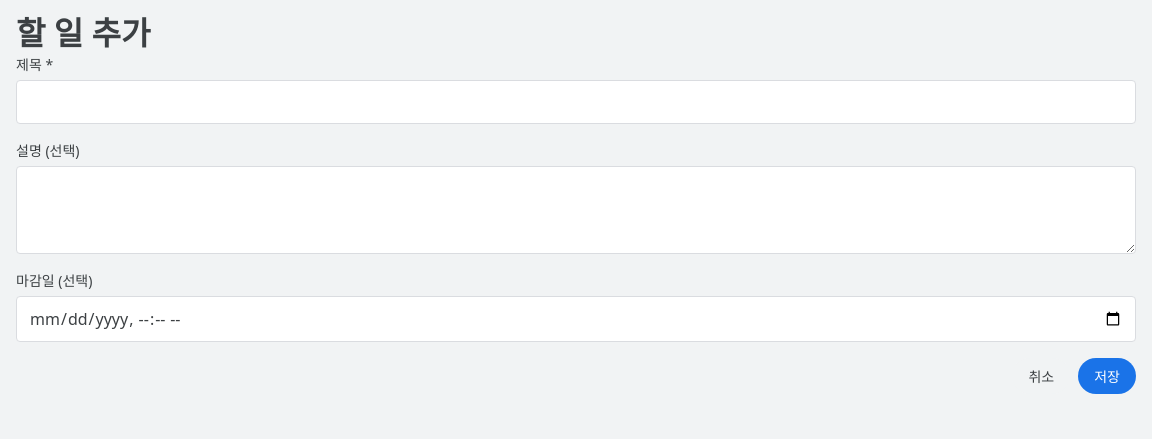
TodoNewPage › 생성 실패 시 오류 메시지 표시
The image size is (1152, 439).
Type "새 할 일" into the field labelled "제목 *". click: (576, 102)
box: [16,80,1136,124]
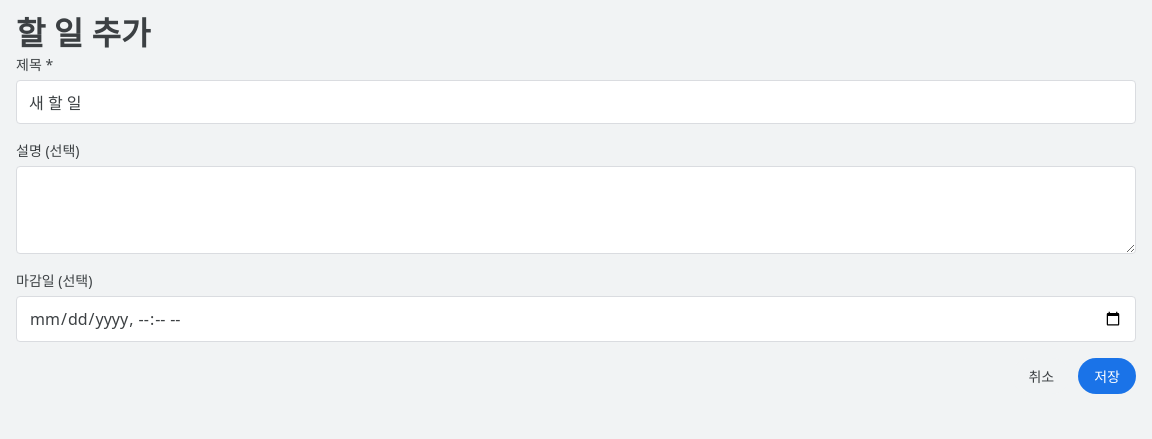
Click the button "저장". click: (1107, 376)
box: [1078,358,1136,394]
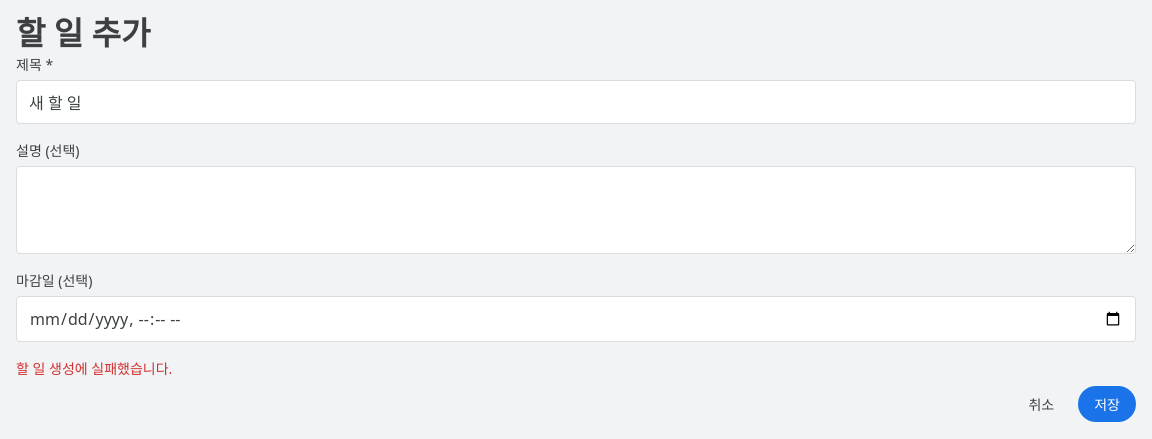
Now the text "할 일 생성에 실패했습니다." is shown, box [16,359,172,378]
